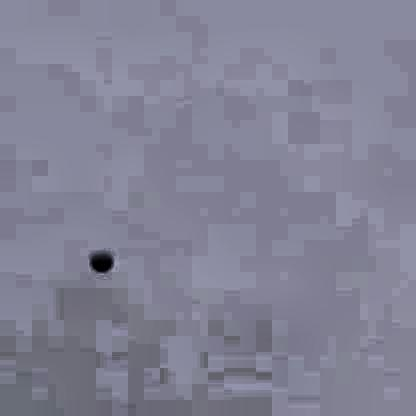golfball: (85, 247, 113, 272)
